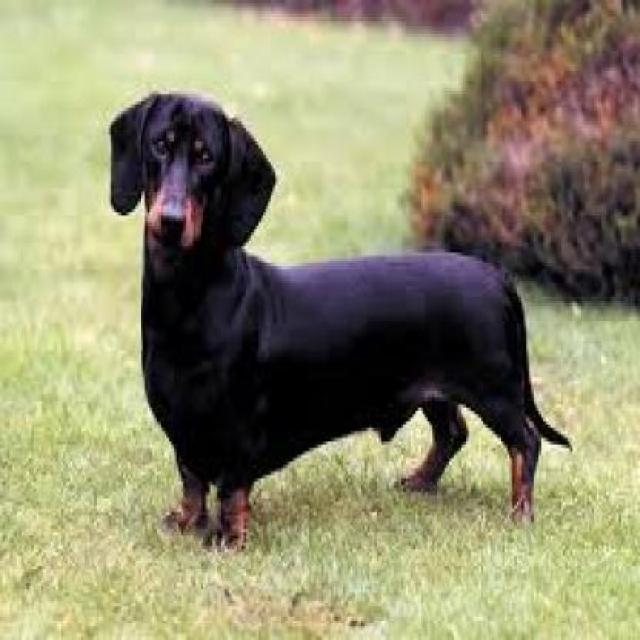animals: (103, 91, 580, 547)
